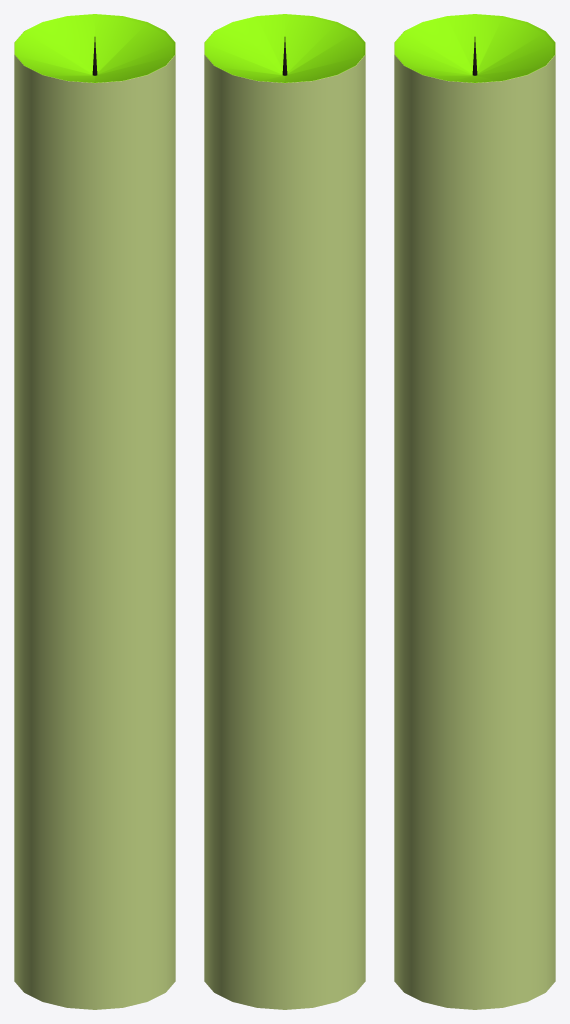
Rendered from swieczka04.FBX.
3 views of the same model, side by side, from view 1: azimuth 30°, elevation 25°; view 2: azimuth 150°, elevation 25°; view 3: azimuth 270°, elevation 25° (orthographic).
Parts seen in each view (by area): view 1: Cylinder002; view 2: Cylinder002; view 3: Cylinder002.
Boxes of the visible parts, <box> form: Cylinder002: <box>14,14,175,1009</box>; Cylinder002: <box>204,14,365,1009</box>; Cylinder002: <box>394,14,555,1009</box>.
Bounding box in the file's own units: 4 × 25.39 × 3.94.
